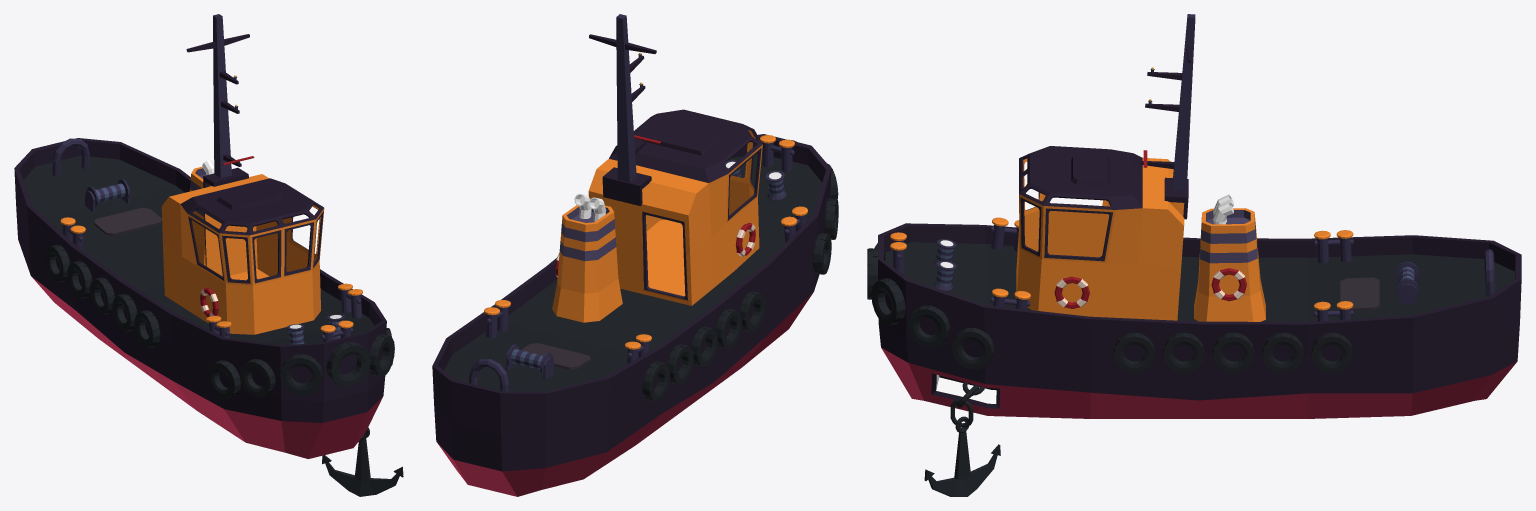
The model's file is low_poly_boat.glb.
3 renders of one model, left to right at view 1: azimuth 30°, elevation 25°; view 2: azimuth 150°, elevation 25°; view 3: azimuth 270°, elevation 25°, orthographic. The views are drawn at different scales.
Visible parts, largest first — view 1: Cube.005_0, Cube.008_9, Cube.007_1, Torus.011_39, Cylinder.022_26, Cylinder.024_28, Cylinder.025_29, Cylinder.026_30, Cylinder.023_27, Cylinder.001_3, Cube.012_18, Cylinder.033_37 (+8 smaller); view 2: Cube.005_0, Cube.008_9, Cube.007_1, Cube.012_18, Cylinder.001_3, Cylinder.029_33, Cylinder.008_8, Cylinder.032_36, Cylinder.031_35, Cylinder.033_37, Cylinder.030_34, Cylinder.003_4 (+7 smaller); view 3: Cube.005_0, Cube.008_9, Cube.007_1, Cube.012_18, Torus.011_39, Cylinder.023_27, Cylinder.028_32, Cylinder.027_31, Cylinder.021_25, Cylinder.019_23, Cylinder.020_24, Cylinder.018_22 (+3 smaller).
Boxes of the visible parts, box(x1,y1,x2,y2) form: Cube.005_0: box(14, 138, 386, 458); Cube.008_9: box(161, 14, 324, 334); Cube.007_1: box(23, 155, 374, 345); Torus.011_39: box(322, 427, 403, 496); Cylinder.022_26: box(326, 342, 370, 387); Cylinder.024_28: box(280, 354, 322, 395); Cylinder.025_29: box(240, 359, 275, 397); Cylinder.026_30: box(207, 360, 240, 398); Cylinder.023_27: box(369, 334, 394, 377); Cylinder.001_3: box(85, 179, 130, 212); Cube.012_18: box(189, 166, 206, 265); Cylinder.033_37: box(134, 310, 160, 348); Cube.005_0: box(432, 134, 831, 496); Cube.008_9: box(588, 14, 762, 305); Cube.007_1: box(444, 154, 821, 391); Cube.012_18: box(552, 205, 622, 322); Cylinder.001_3: box(505, 344, 554, 379); Cylinder.029_33: box(642, 361, 669, 401); Cylinder.008_8: box(760, 135, 794, 171); Cylinder.032_36: box(715, 308, 741, 349); Cylinder.031_35: box(690, 326, 717, 367); Cylinder.033_37: box(739, 291, 765, 331); Cylinder.030_34: box(666, 344, 693, 384); Cylinder.003_4: box(484, 300, 510, 338); Cube.005_0: box(878, 223, 1521, 418); Cube.008_9: box(1016, 14, 1195, 320); Cube.007_1: box(884, 242, 1514, 321); Cube.012_18: box(1194, 208, 1265, 321); Torus.011_39: box(924, 416, 1000, 496); Cylinder.023_27: box(871, 278, 905, 325); Cylinder.028_32: box(951, 327, 994, 369); Cylinder.027_31: box(907, 305, 950, 347); Cylinder.021_25: box(1113, 332, 1155, 373); Cylinder.019_23: box(1212, 332, 1254, 373); Cylinder.020_24: box(1162, 332, 1204, 373); Cylinder.018_22: box(1262, 332, 1303, 373).
Size of the model in its own units: 4.61 by 10.54 by 13.65.
Materials: 2 (1 with a texture image).
